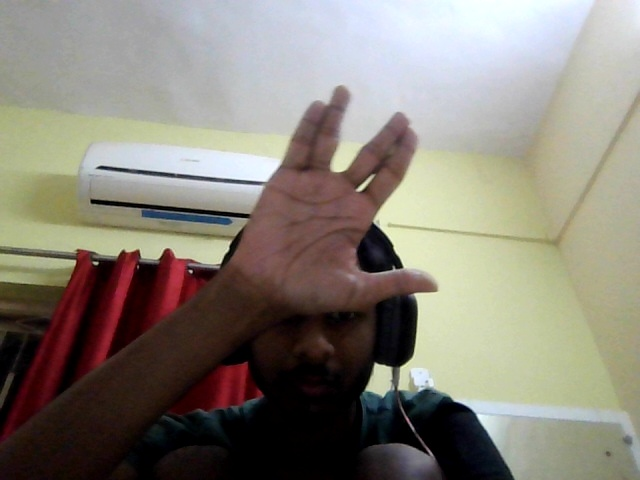LiveLong: (232, 82, 445, 302)
